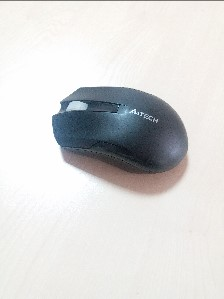mouse: (52, 84, 190, 189)
